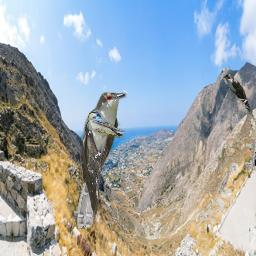Cuckoo: (75, 90, 127, 229), (223, 74, 253, 114)
Swallow: (88, 111, 126, 139)
